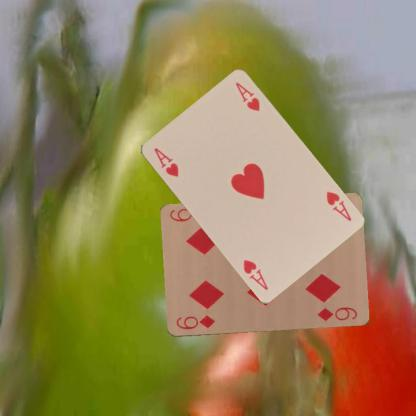6d: (173, 313, 216, 331)
Ah: (150, 145, 180, 179), (323, 188, 352, 223)
